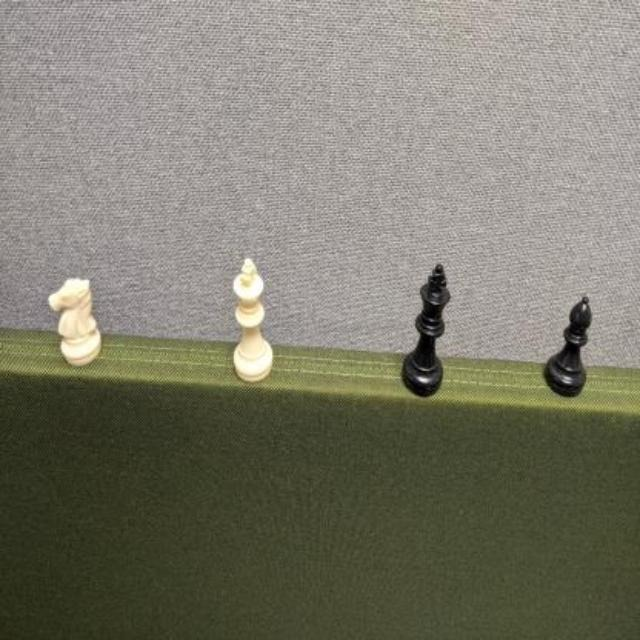black-bishop: (543, 291, 592, 398)
black-king: (403, 258, 450, 399)
white-king: (231, 254, 275, 383)
white-knight: (47, 274, 103, 369)
